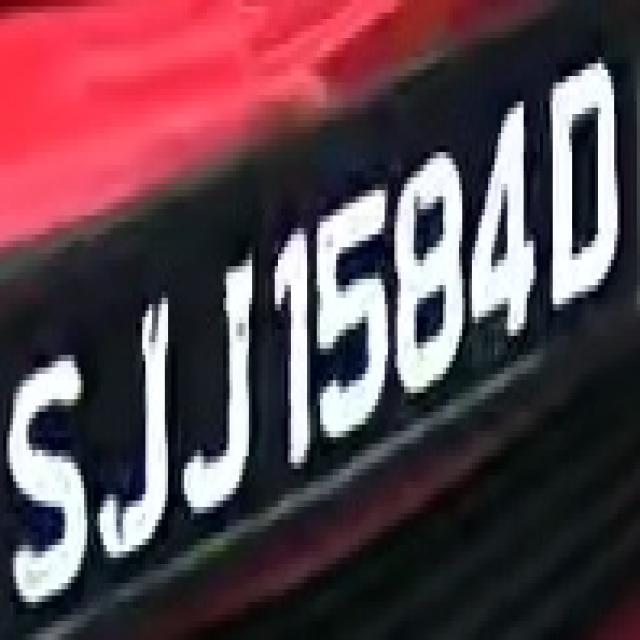1: (281, 209, 320, 482)
4: (462, 82, 537, 374)
5: (317, 178, 391, 456)
8: (378, 152, 475, 399)
D: (537, 51, 627, 330)
J: (171, 235, 262, 532), (84, 278, 178, 558)
S: (3, 323, 94, 634)
